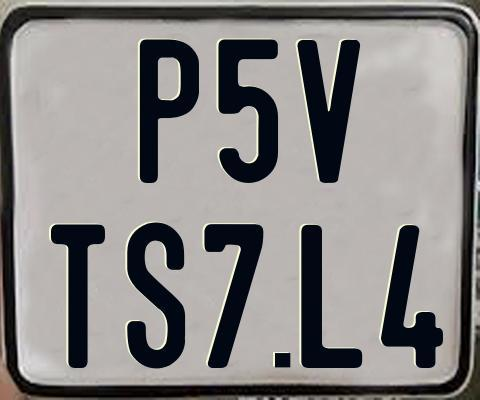4: (379, 222, 445, 371)
5: (216, 38, 279, 182)
7: (203, 223, 266, 370)
L: (301, 224, 365, 370)
P: (139, 36, 201, 182)
S: (126, 220, 187, 373)
T: (48, 222, 105, 370)
V: (298, 40, 360, 188)
